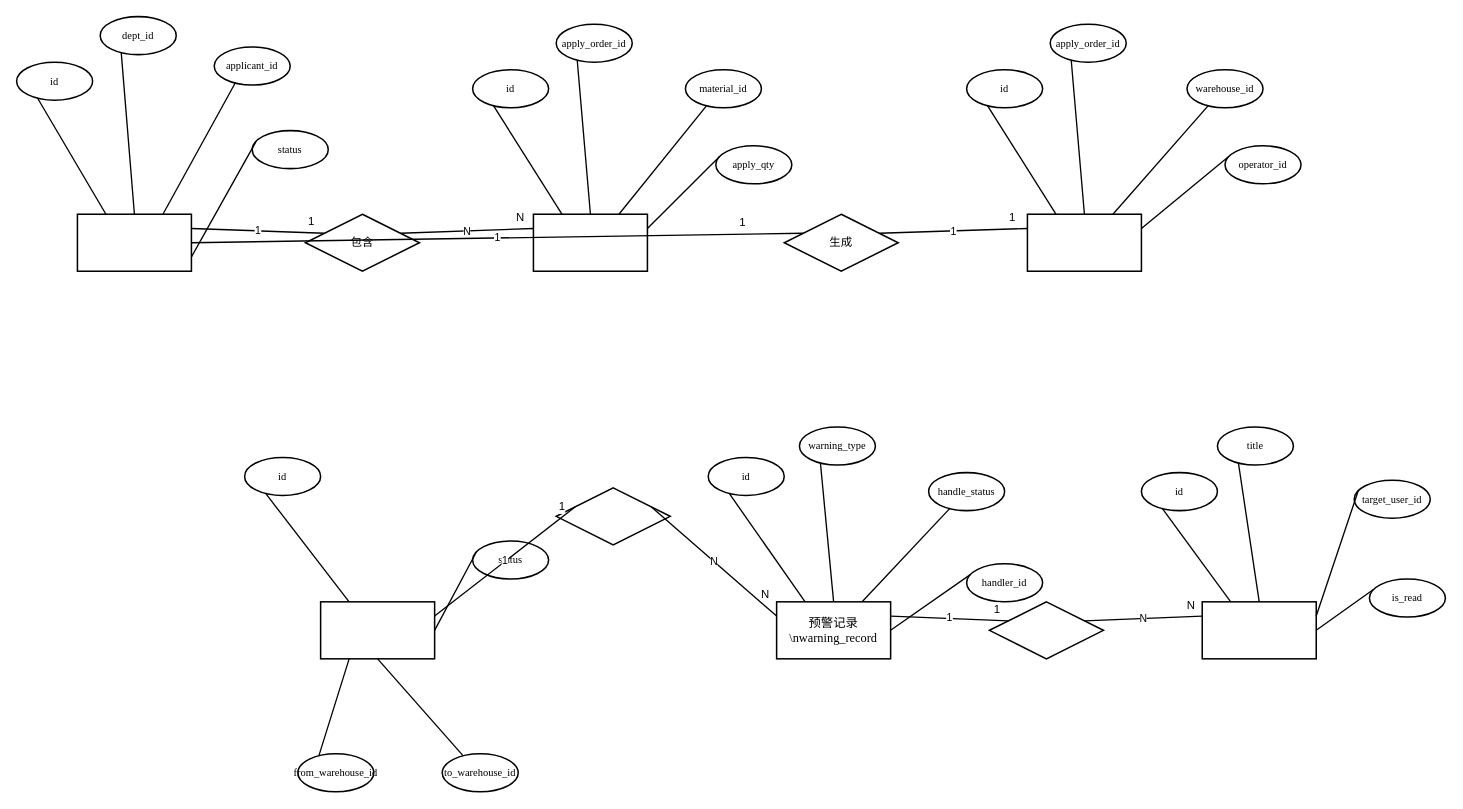
Some shapes in this 1463 by 809 pixel diagram are drawn without their labels. Here are the shapes that lost their labels. From the top down, the centre of each, then its label:
[134,242]: 申领单\napply_order
[590,242]: 申领明细\napply_order_item
[1084,242]: 出库单\nstock_out
[613,516]: 触发
[377,630]: 调拨单\ntransfer_order
[1046,630]: 发送
[1259,630]: 通知消息\nnotification
